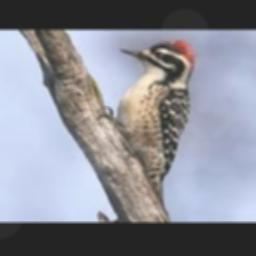Woodpecker: (97, 39, 197, 203)
